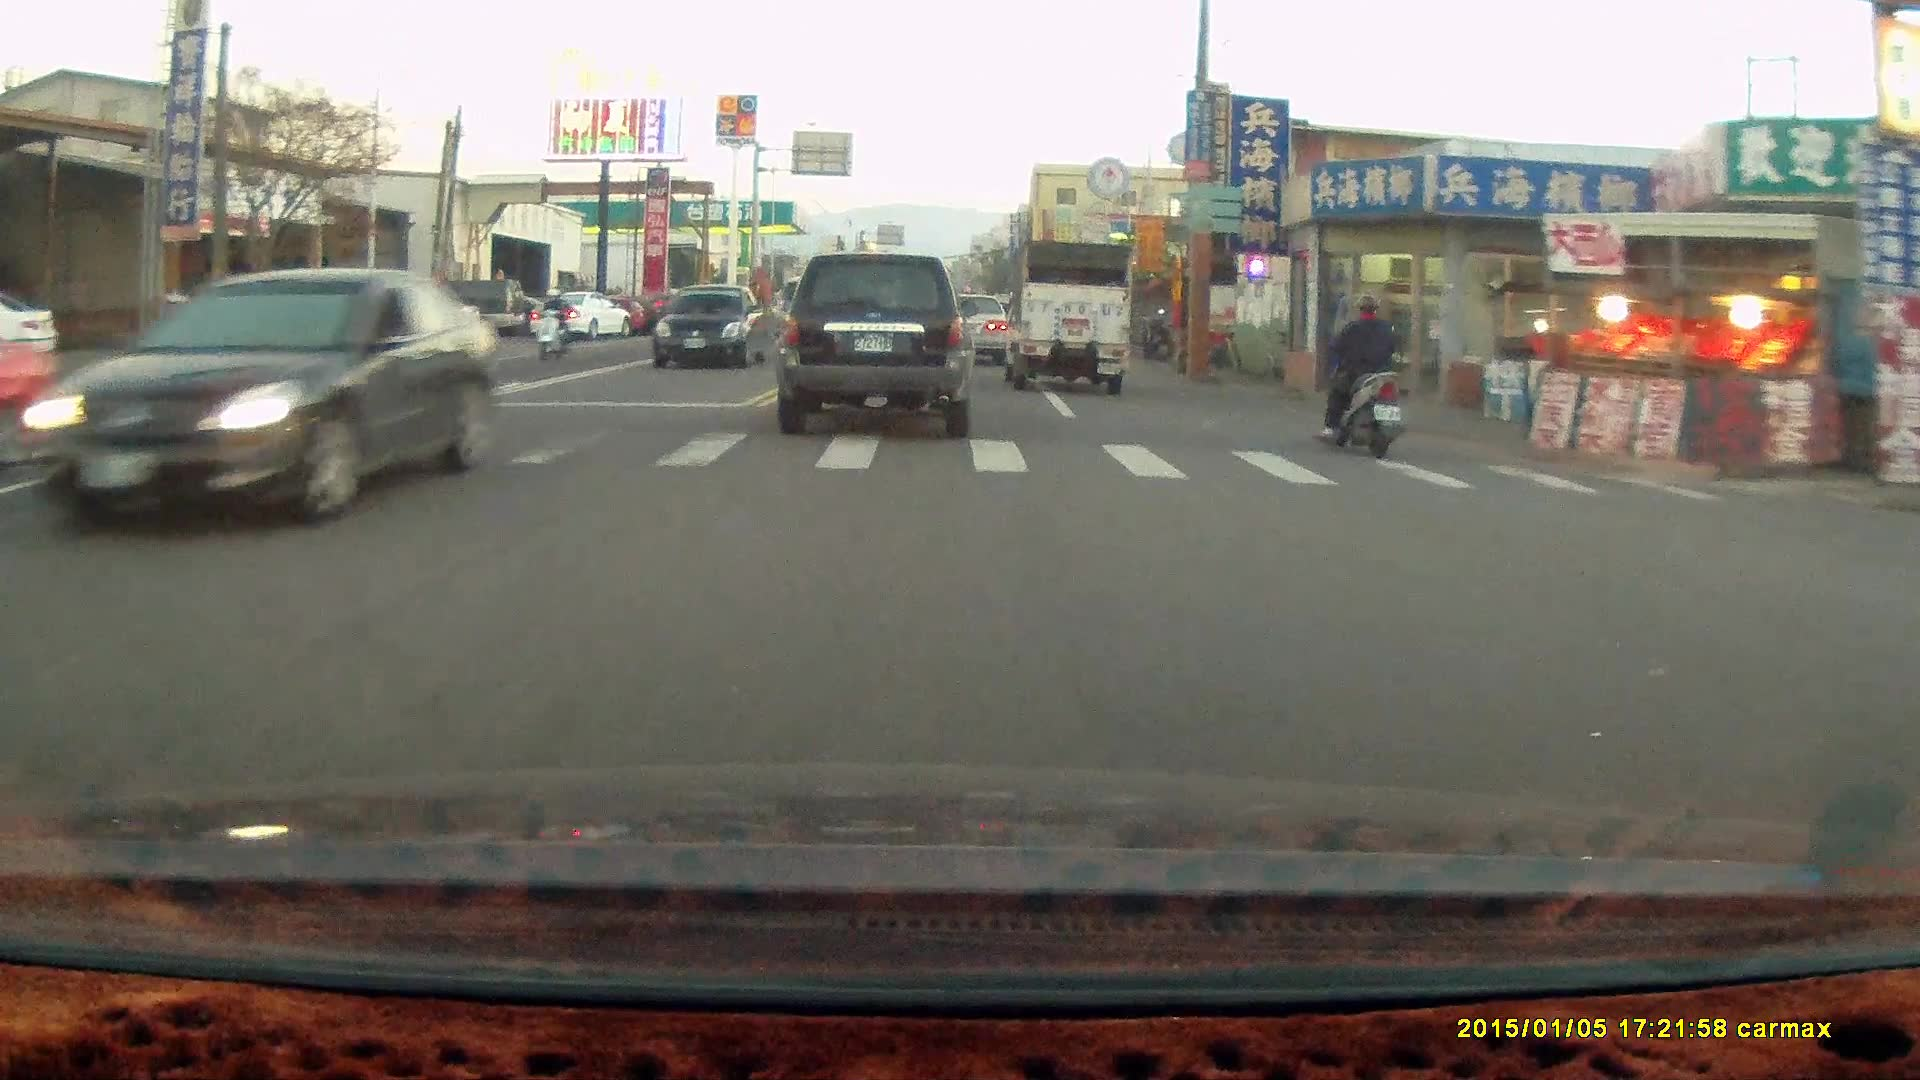rider: (1314, 293, 1406, 459), (532, 282, 573, 359)
vehicle: (19, 267, 486, 528), (774, 252, 979, 438), (999, 235, 1134, 393), (654, 283, 769, 373), (934, 289, 1009, 363), (1, 289, 69, 368)
